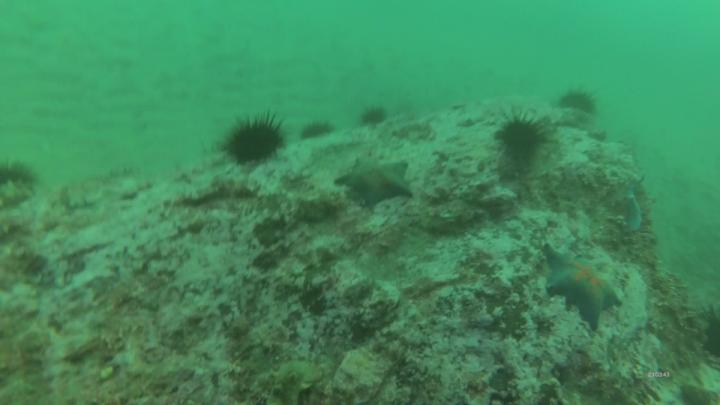echinus: (224, 122, 284, 162), (503, 121, 541, 157), (556, 91, 597, 110), (302, 122, 334, 140), (359, 112, 384, 123)
starfish: (544, 244, 625, 328), (335, 159, 416, 204), (626, 189, 647, 231)
